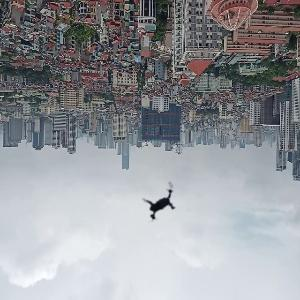drone: (134, 178, 186, 230)
